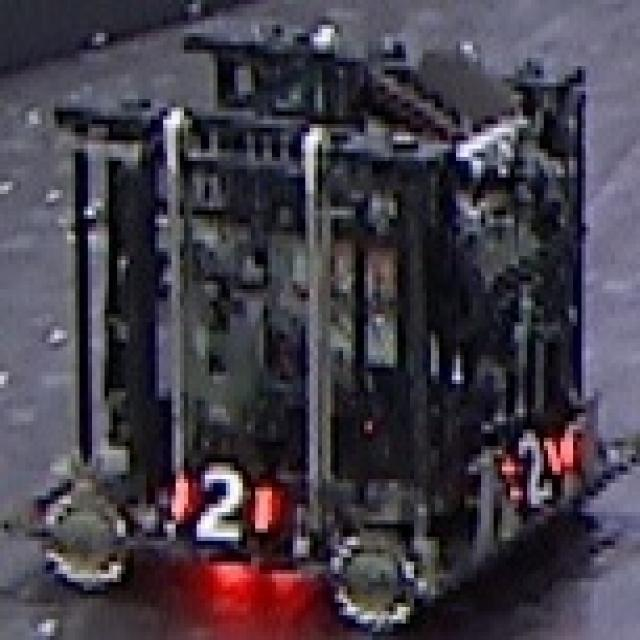R2: (163, 458, 276, 545), (506, 421, 565, 504)
